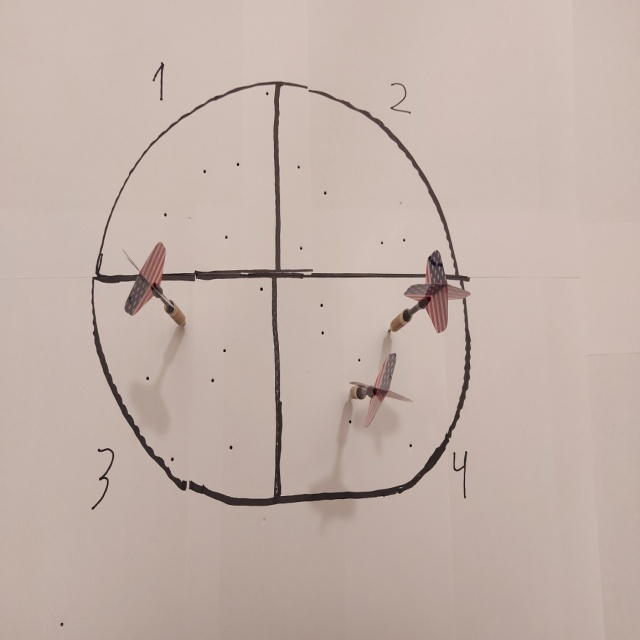Dart: (384, 246, 473, 344), (111, 237, 191, 336), (340, 349, 417, 427)
